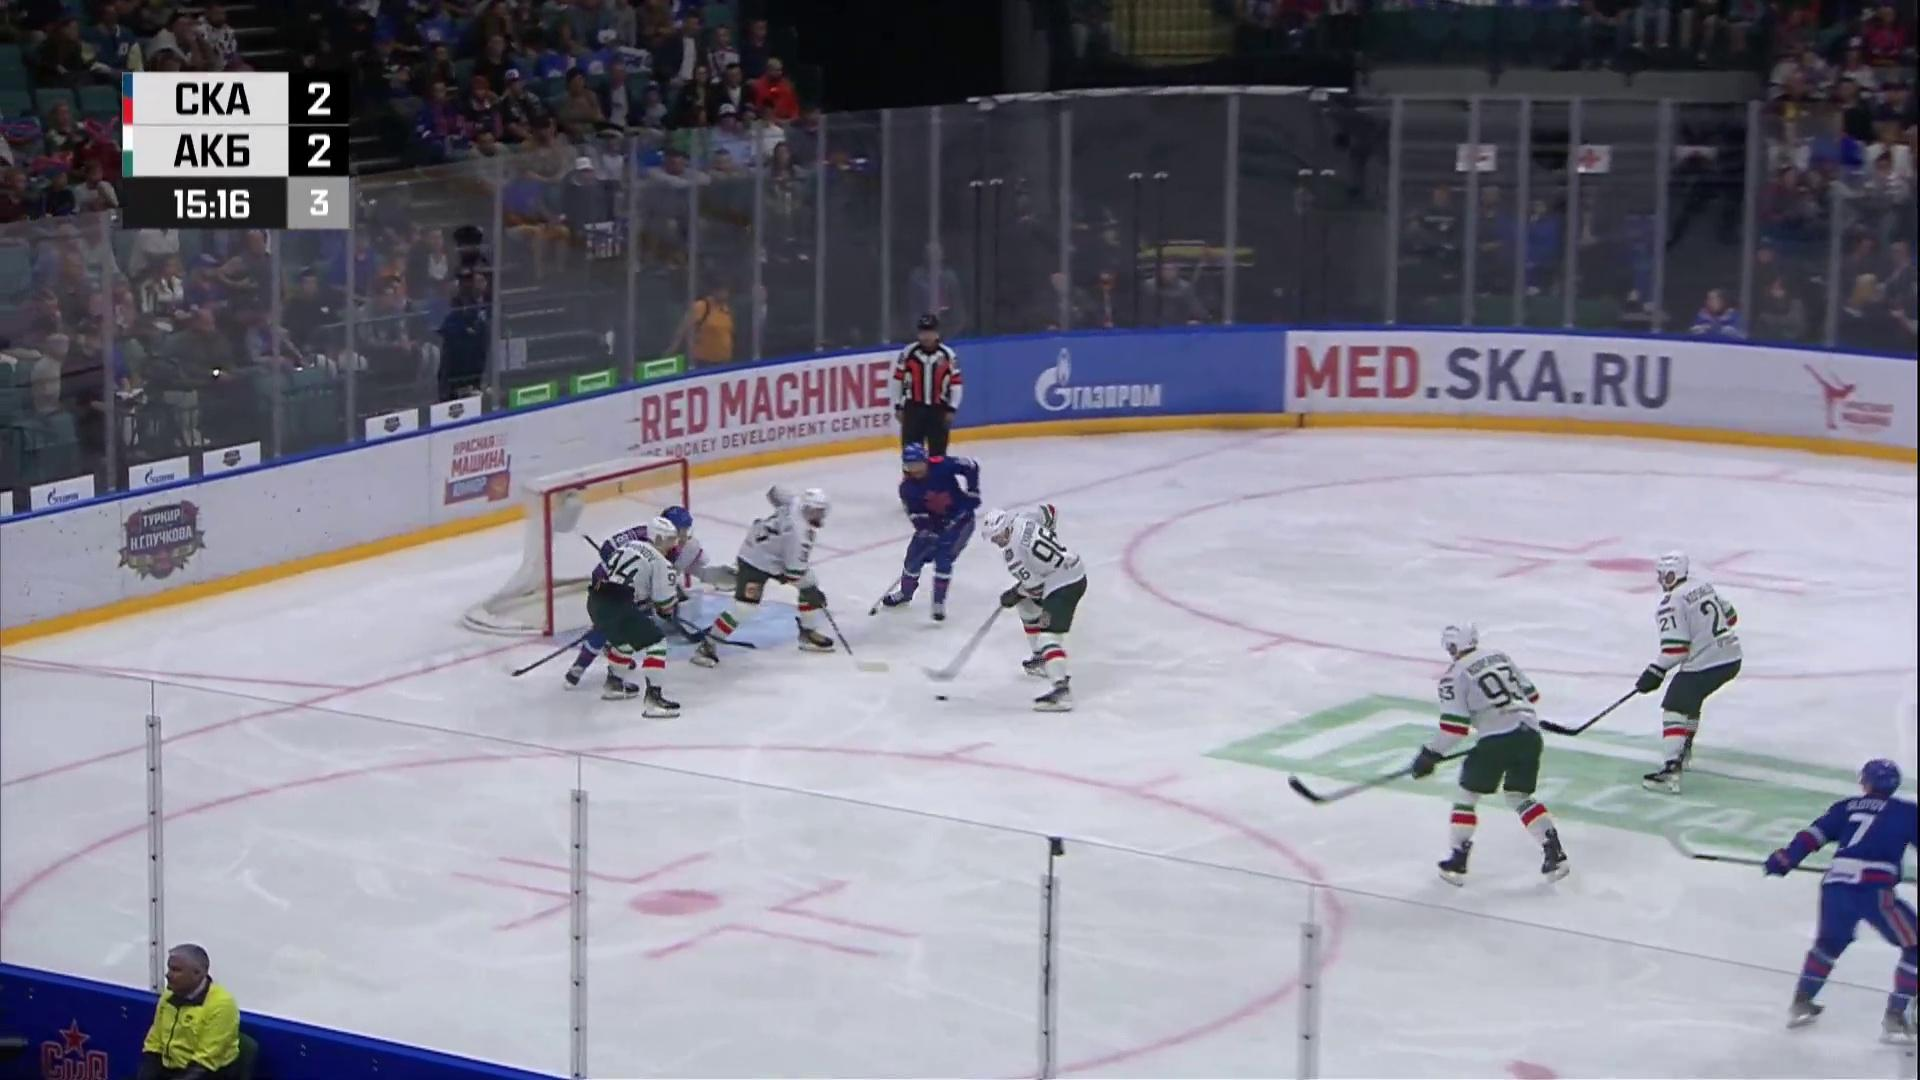ball: (936, 695, 947, 702)
